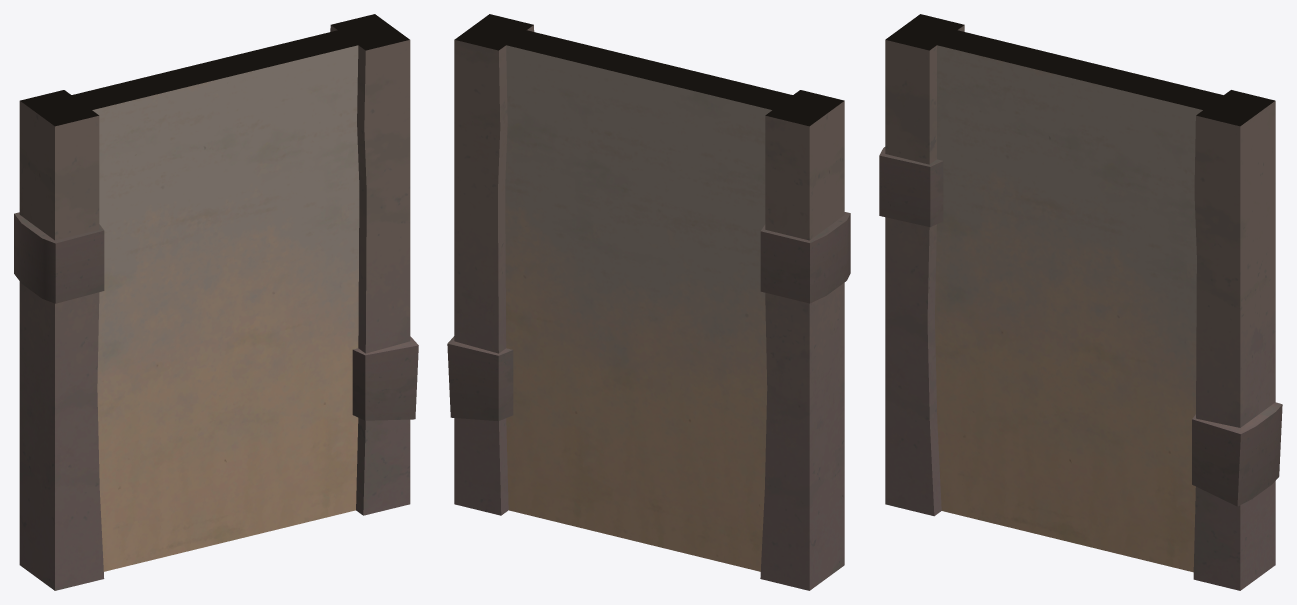
File: Wall_2L_Bdr.fbx
3 views of the same model, side by side, from view 1: azimuth 30°, elevation 25°; view 2: azimuth 150°, elevation 25°; view 3: azimuth 330°, elevation 25° (orthographic).
Visible parts, largest first — view 1: Wall_2L_Bdr; view 2: Wall_2L_Bdr; view 3: Wall_2L_Bdr.
Part boxes in pixels (x1,y1,x2,y2): Wall_2L_Bdr: (14, 14, 418, 590); Wall_2L_Bdr: (447, 14, 850, 590); Wall_2L_Bdr: (879, 14, 1282, 590).
Bounding box in the file's own units: 417 × 500 × 81.86.
